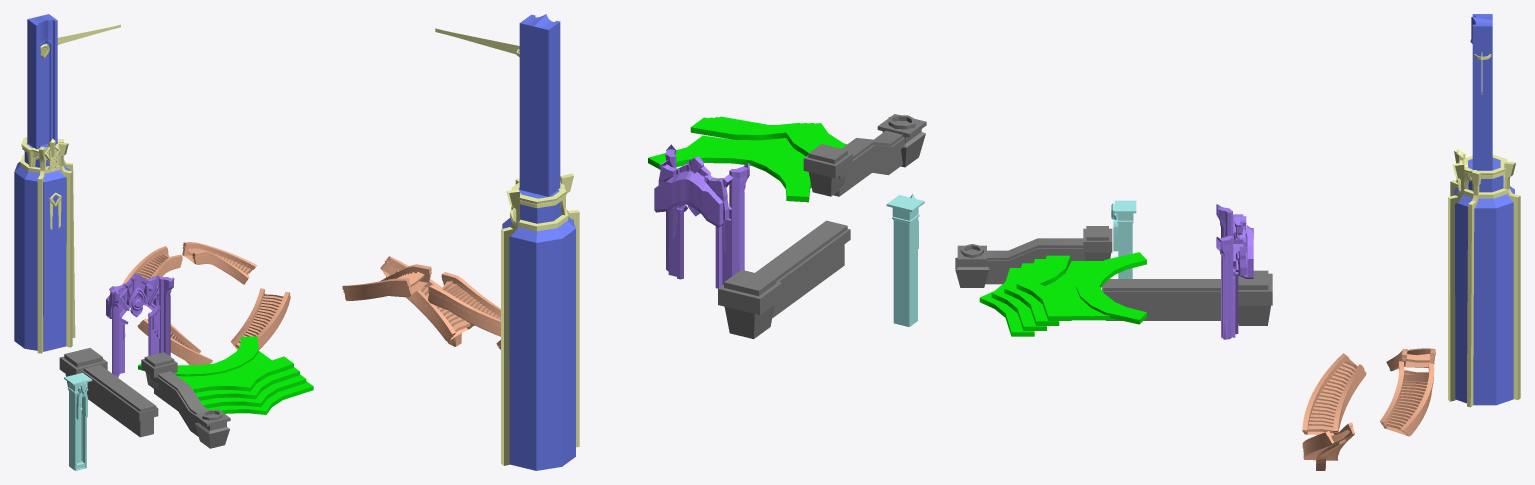
File: highRES.fbx
3 renders of one model, left to right at view 1: azimuth 30°, elevation 25°; view 2: azimuth 150°, elevation 25°; view 3: azimuth 270°, elevation 25°, orthographic. The views are drawn at different scales.
Visible parts, largest first — view 1: polySurface4, pCube127, polySurface134, pCube134, Pillar2, pCube145, polySurface212, polySurface62, pCube133, pCube135, polySurface63, pCube147 (+12 smaller); view 2: polySurface4, pCube127, pCube145, pCube128, pCube135, polySurface211, polySurface138, pCube134, arch:pCylinder31sprint2arch, pCube133, Pillar2, polySurface134 (+8 smaller); view 3: polySurface4, pCube127, polySurface132, polySurface212, pCube135, pCube134, polySurface211, polySurface62, pCube133, pCube128, polySurface8, Pillar2 (+9 smaller).
Part boxes in pixels (bbox=[...]): polySurface4: bbox=[14, 14, 69, 351]; pCube127: bbox=[82, 364, 158, 437]; polySurface134: bbox=[231, 288, 290, 350]; pCube134: bbox=[150, 371, 208, 436]; Pillar2: bbox=[111, 277, 171, 377]; pCube145: bbox=[64, 372, 92, 470]; polySurface212: bbox=[182, 242, 256, 284]; polySurface62: bbox=[58, 142, 72, 347]; pCube133: bbox=[185, 356, 293, 392]; pCube135: bbox=[138, 336, 258, 376]; polySurface63: bbox=[37, 146, 45, 353]; pCube147: bbox=[194, 409, 230, 448]; polySurface4: bbox=[502, 14, 575, 470]; pCube127: bbox=[755, 220, 850, 317]; pCube145: bbox=[886, 195, 924, 326]; pCube128: bbox=[718, 269, 782, 339]; pCube135: bbox=[648, 145, 810, 202]; polySurface211: bbox=[501, 189, 519, 465]; polySurface138: bbox=[428, 272, 500, 336]; pCube134: bbox=[833, 130, 904, 196]; arch:pCylinder31sprint2arch: bbox=[654, 171, 723, 227]; pCube133: bbox=[690, 117, 832, 156]; Pillar2: bbox=[665, 149, 747, 276]; polySurface134: bbox=[380, 256, 474, 346]; polySurface4: bbox=[1454, 14, 1514, 405]; pCube127: bbox=[1102, 279, 1220, 320]; polySurface132: bbox=[1302, 353, 1366, 435]; polySurface212: bbox=[1380, 361, 1434, 436]; pCube135: bbox=[1076, 252, 1146, 324]; pCube134: bbox=[985, 238, 1085, 284]; polySurface211: bbox=[1504, 161, 1520, 399]; polySurface62: bbox=[1448, 163, 1464, 401]; pCube133: bbox=[1016, 255, 1071, 320]; pCube128: bbox=[1238, 270, 1272, 325]; polySurface8: bbox=[1467, 170, 1481, 407]; Pillar2: bbox=[1218, 207, 1232, 339].
Bounding box in the file's own units: 675 × 674 × 914.
